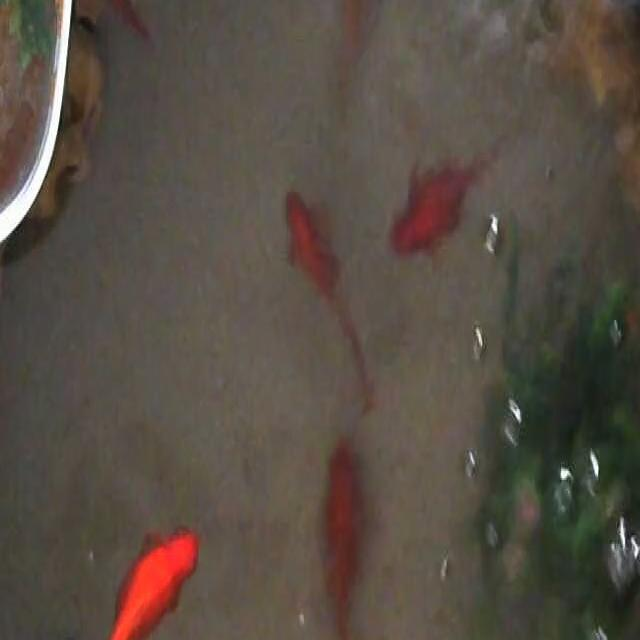fish: (285, 186, 374, 416), (51, 530, 198, 640), (389, 144, 502, 259), (321, 437, 367, 640), (80, 0, 152, 50), (338, 0, 379, 82)
